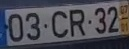0: (6, 12, 24, 43)
2: (106, 5, 119, 33)
3: (23, 11, 41, 41), (93, 6, 107, 34)
C: (50, 9, 69, 39)
R: (67, 8, 85, 38)
